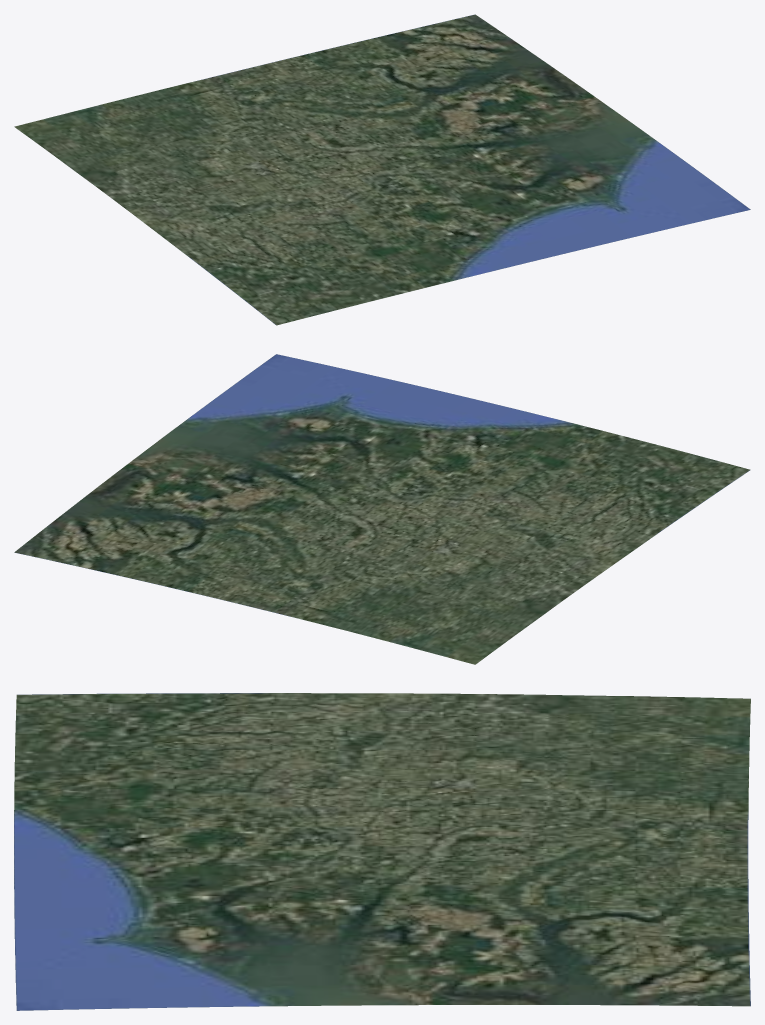
3 views of the same model, one above another, from view 1: azimuth 30°, elevation 25°; view 2: azimuth 150°, elevation 25°; view 3: azimuth 270°, elevation 25° (orthographic). The views are drawn at different scales.
Bounding box in the file's own units: 258866 × 2585 × 255036.
Materials: 1 (1 with a texture image).
